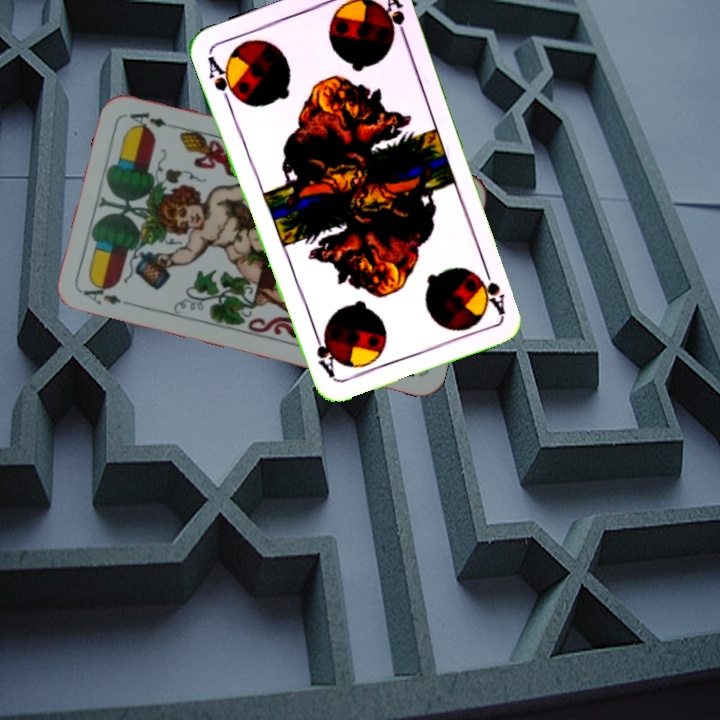EA: (79, 278, 124, 307)
SA: (203, 51, 242, 107), (474, 259, 508, 317)
